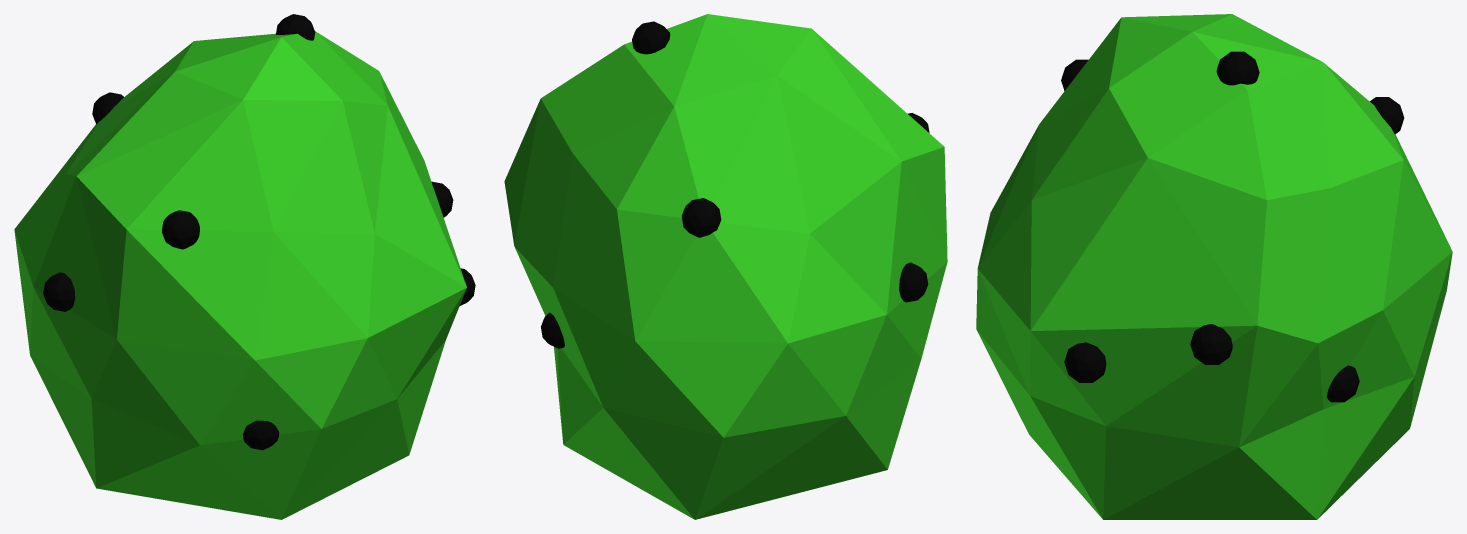
The model's file is bush2.fbx.
The picture shows the model from 3 angles, left to right: view 1: azimuth 30°, elevation 25°; view 2: azimuth 150°, elevation 25°; view 3: azimuth 270°, elevation 25°; orthographic projection. The views are drawn at different scales.
Parts seen in each view (by area): view 1: Icosphere, Icosphere.001; view 2: Icosphere, Icosphere.001; view 3: Icosphere, Icosphere.001.
Boxes of the visible parts, left/top/right/bottom form: Icosphere: left=14, top=31, right=466, bottom=519; Icosphere.001: left=43, top=14, right=475, bottom=450; Icosphere: left=504, top=14, right=947, bottom=519; Icosphere.001: left=541, top=21, right=929, bottom=348; Icosphere: left=976, top=14, right=1452, bottom=519; Icosphere.001: left=1061, top=51, right=1404, bottom=402.
Size of the model in its own units: 139 by 136 by 131.
